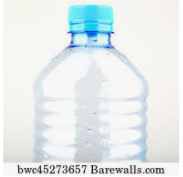Bottle: (35, 5, 150, 161)
